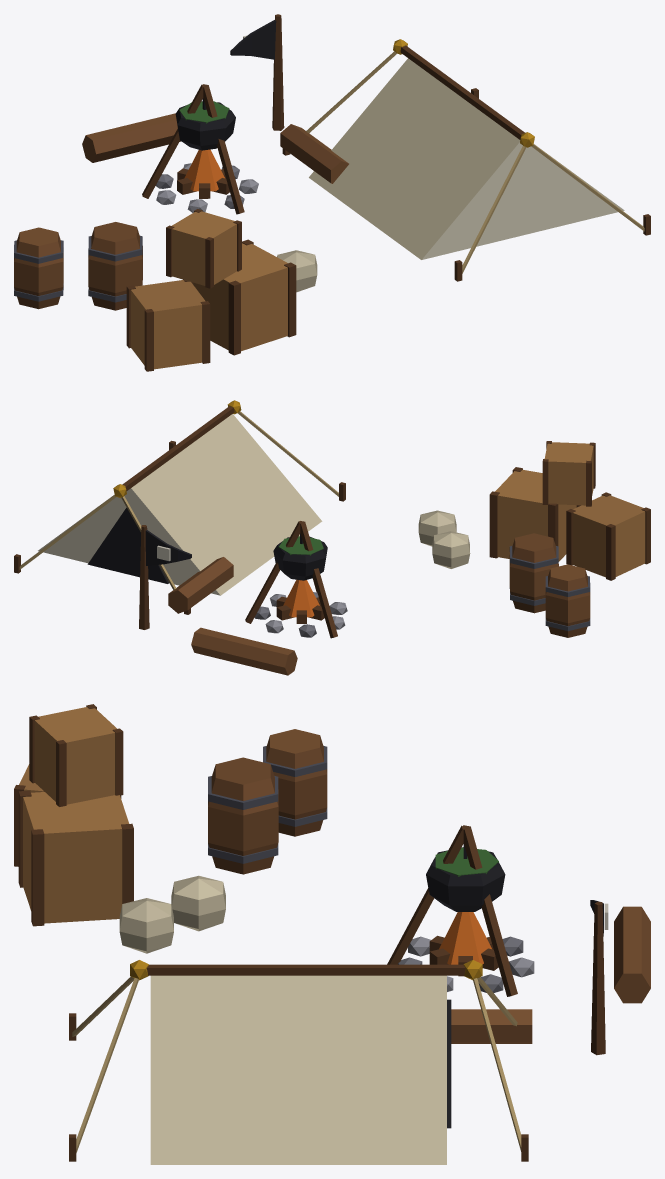
The model's file is Decor_PirateShip_Camp.fbx.
The picture shows the model from 3 angles, top to bottom: view 1: azimuth 30°, elevation 25°; view 2: azimuth 150°, elevation 25°; view 3: azimuth 270°, elevation 25°; orthographic projection. The views are drawn at different scales.
Parts seen in each view (by area): view 1: Camp_Body; view 2: Camp_Body; view 3: Camp_Body.
Boxes of the visible parts, x1=… form: Camp_Body: x1=14, y1=14, x2=650, y2=371; Camp_Body: x1=14, y1=400, x2=650, y2=675; Camp_Body: x1=14, y1=704, x2=650, y2=1164.
Bounding box in the file's own units: 22.51 × 4.52 × 17.
